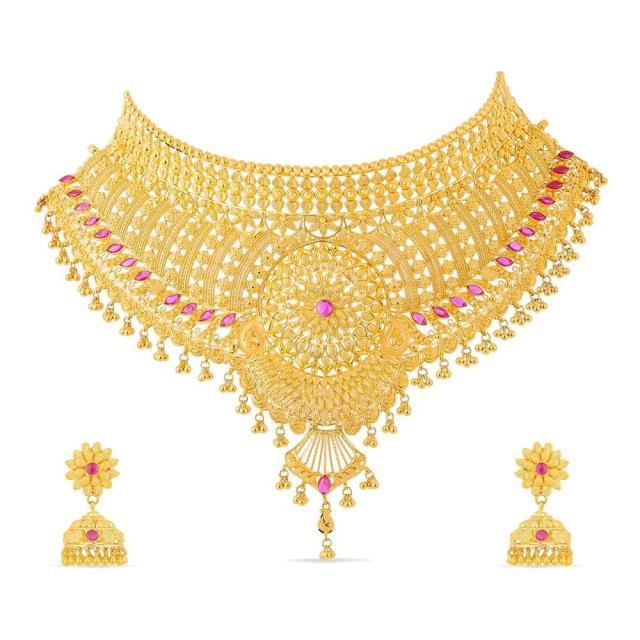missing gem: (479, 271, 501, 280), (148, 282, 166, 293)
